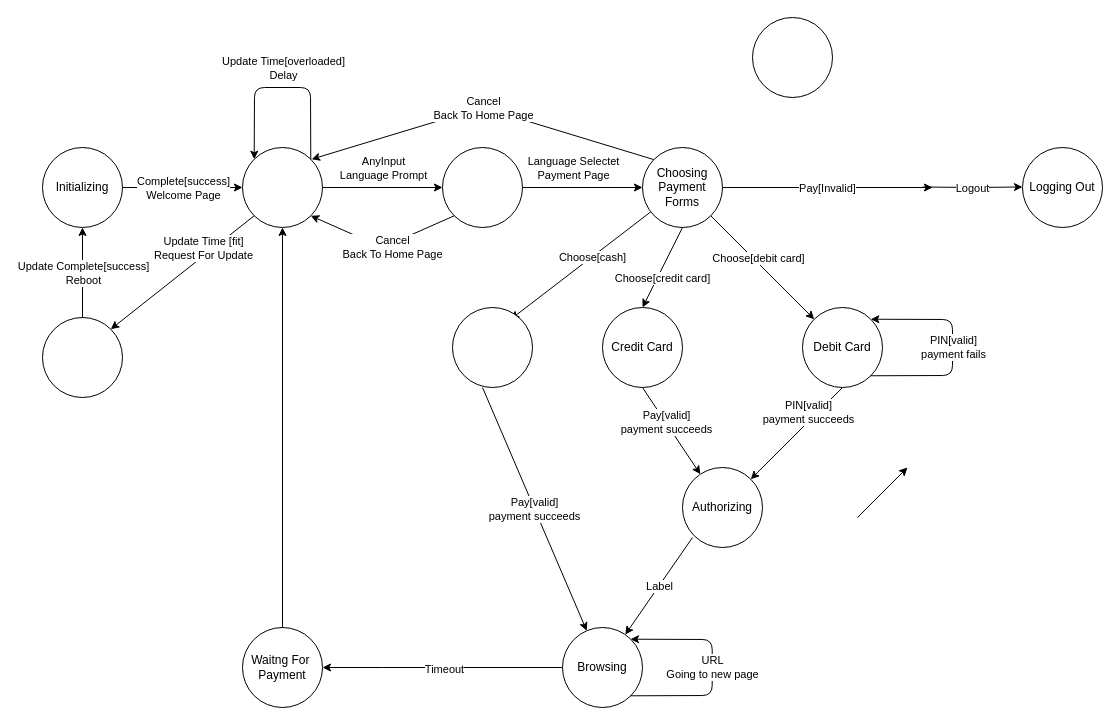
The diagram is 1120 pixels wide and 725 high, and some of its shapes have lost their labels. Here are the shapes that lost their labels. From the top down, the centre of each, then its label:
the point at 282,187: Waiting
the point at 482,187: Selecting Language
the point at 82,357: Updating
the point at 492,347: Cash
